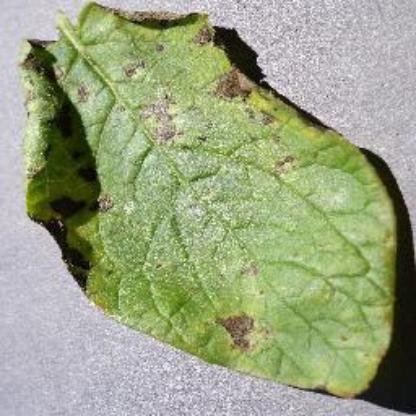Early-Blight: (19, 4, 398, 398)
